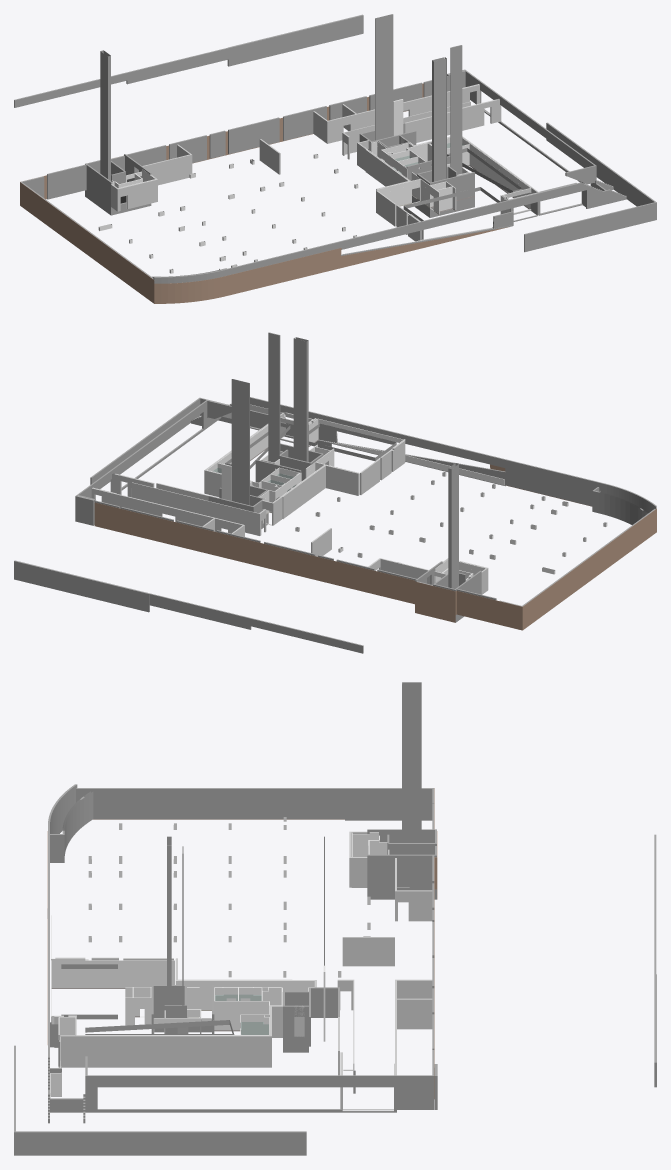
Rendered from model-part.gltf_walls_Piso (-1).gltf.
3 views of the same model, one above another, from view 1: azimuth 30°, elevation 25°; view 2: azimuth 150°, elevation 25°; view 3: azimuth 270°, elevation 25° (orthographic). The views are drawn at different scales.
Bounding box in the file's own units: 71.08 × 22.78 × 61.55.
